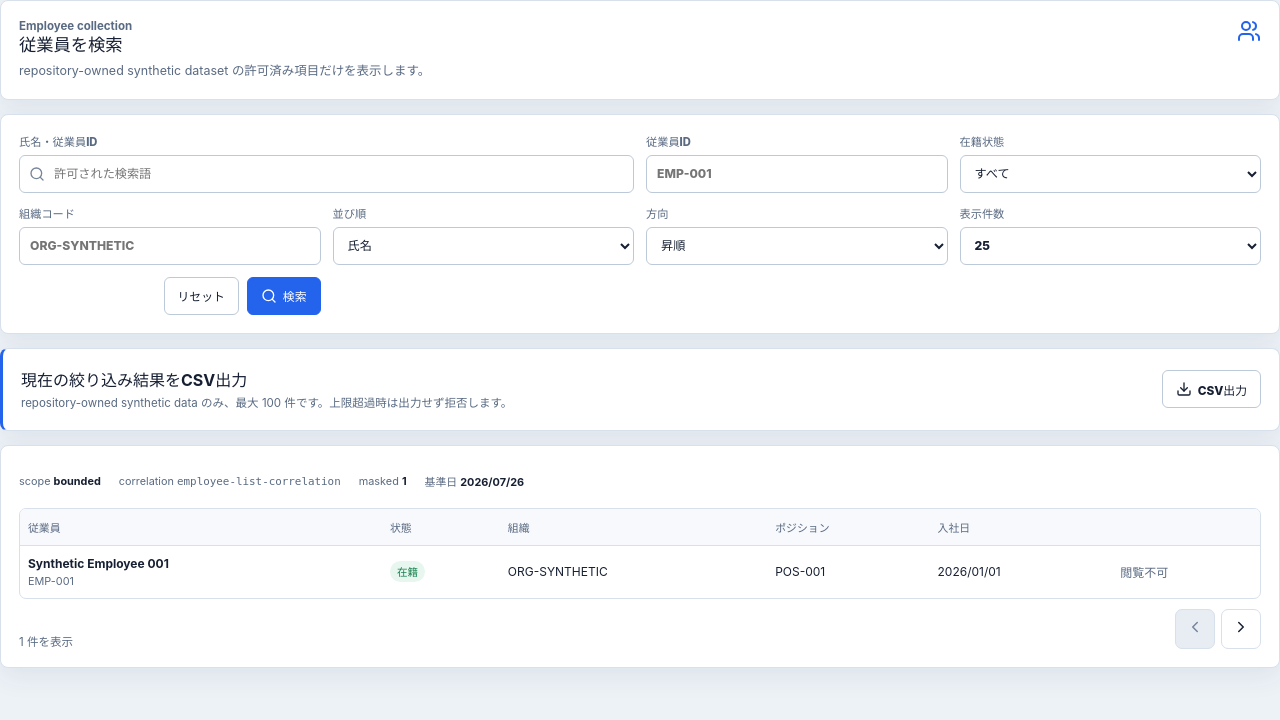
Test: employee list screen › rejects a locally invalid bounded search term
Expected: the text "Synthetic Employee 001" is shown, 28,556 -> 169,571
Type "A" into the field labelled "氏名・従業員ID". click: (326, 174)
box: 19,155 -> 634,193
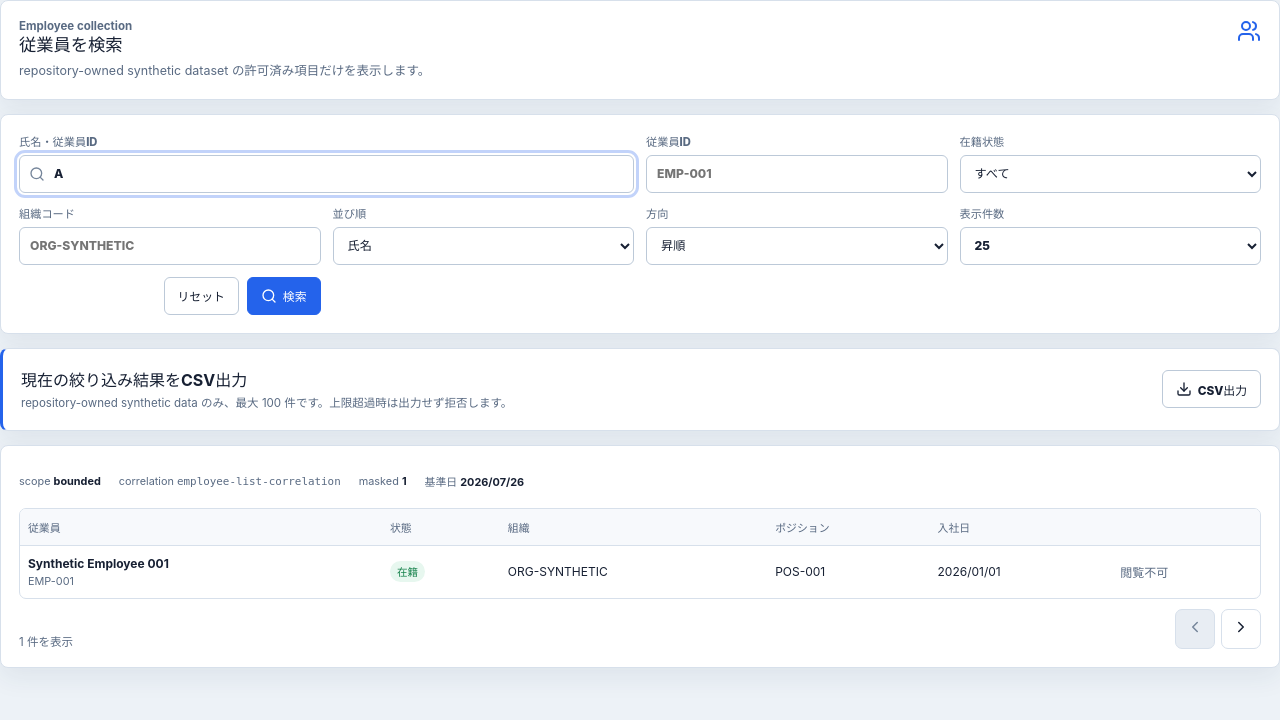
Click the button "検索". click: click(284, 296)
box: 247,277 -> 320,315
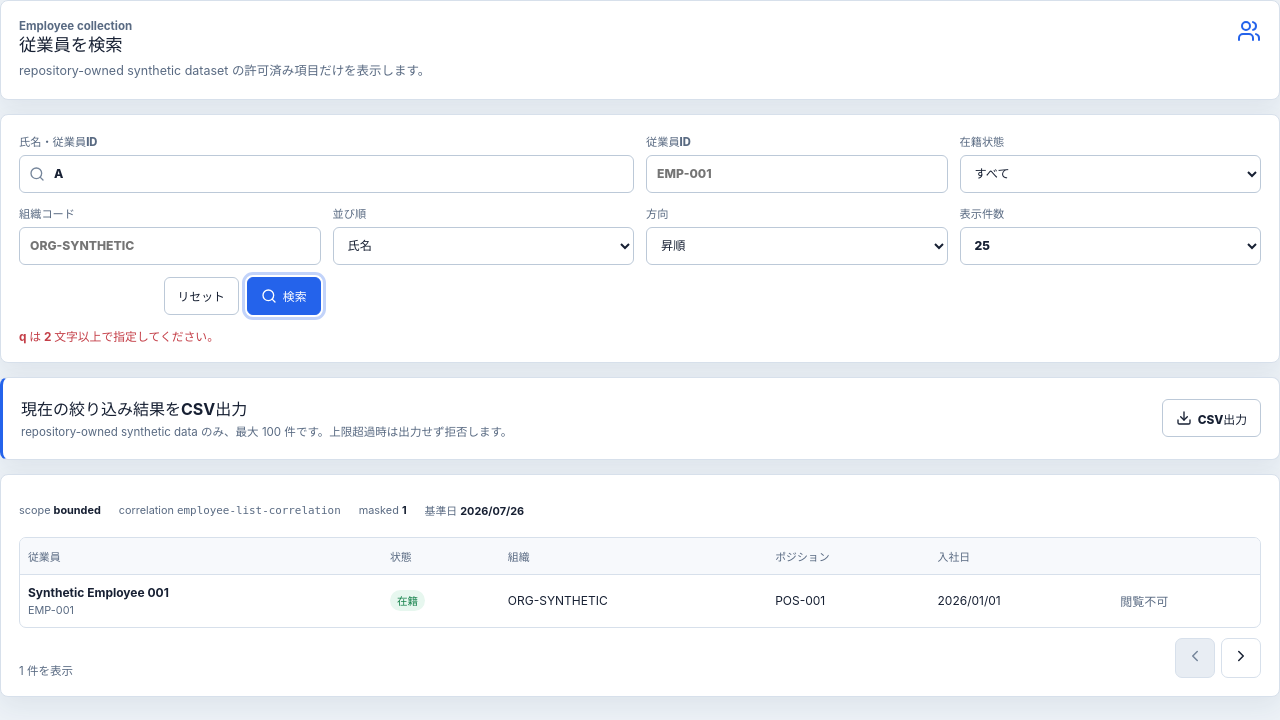
Expected: the text "q は 2 文字以上で指定してください。" is shown, 19,330 -> 219,344
